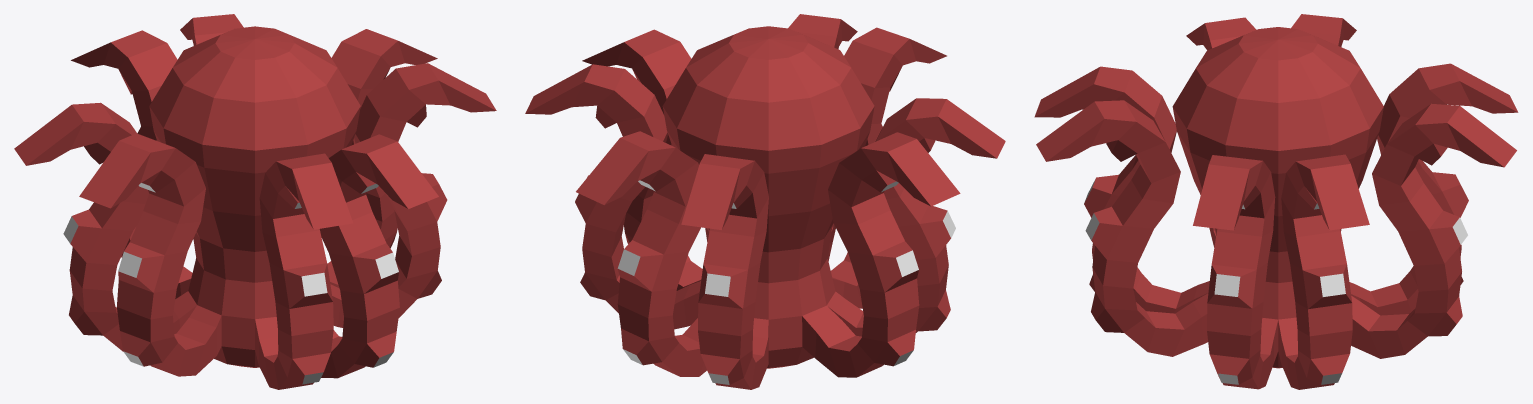
Rendered from pieuvre.fbx.
3 renders of one model, left to right at view 1: azimuth 30°, elevation 25°; view 2: azimuth 150°, elevation 25°; view 3: azimuth 270°, elevation 25°, orthographic.
Parts seen in each view (by area): view 1: pieuvre_corps; view 2: pieuvre_corps; view 3: pieuvre_corps.
Boxes of the visible parts, <box> form: pieuvre_corps: <box>14,14,496,389</box>; pieuvre_corps: <box>525,14,1005,389</box>; pieuvre_corps: <box>1034,14,1518,389</box>.
Size of the model in its own units: 4.29 by 3.13 by 4.29.
